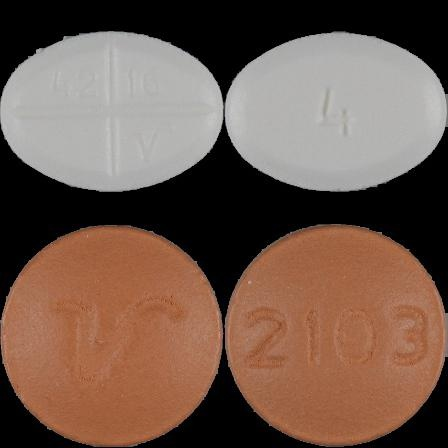50090-0221: (0, 0, 224, 224)
